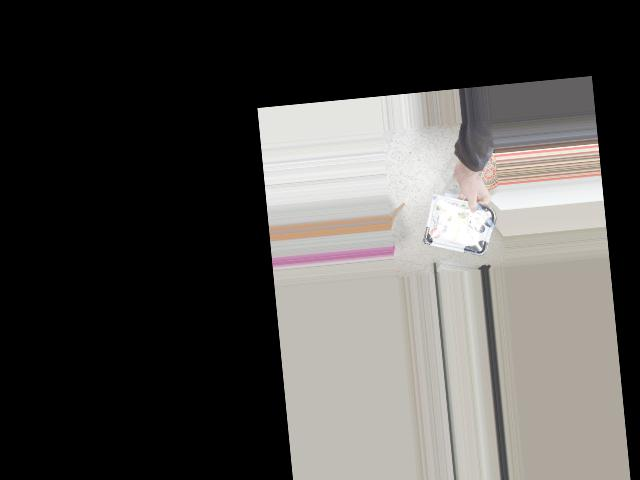cheese: (428, 201, 495, 253)
